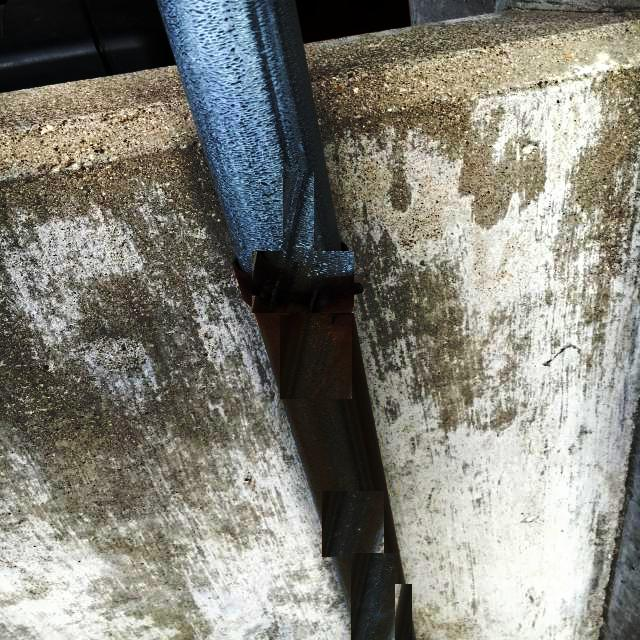Corrosion: (287, 340, 412, 640), (236, 252, 362, 400)
